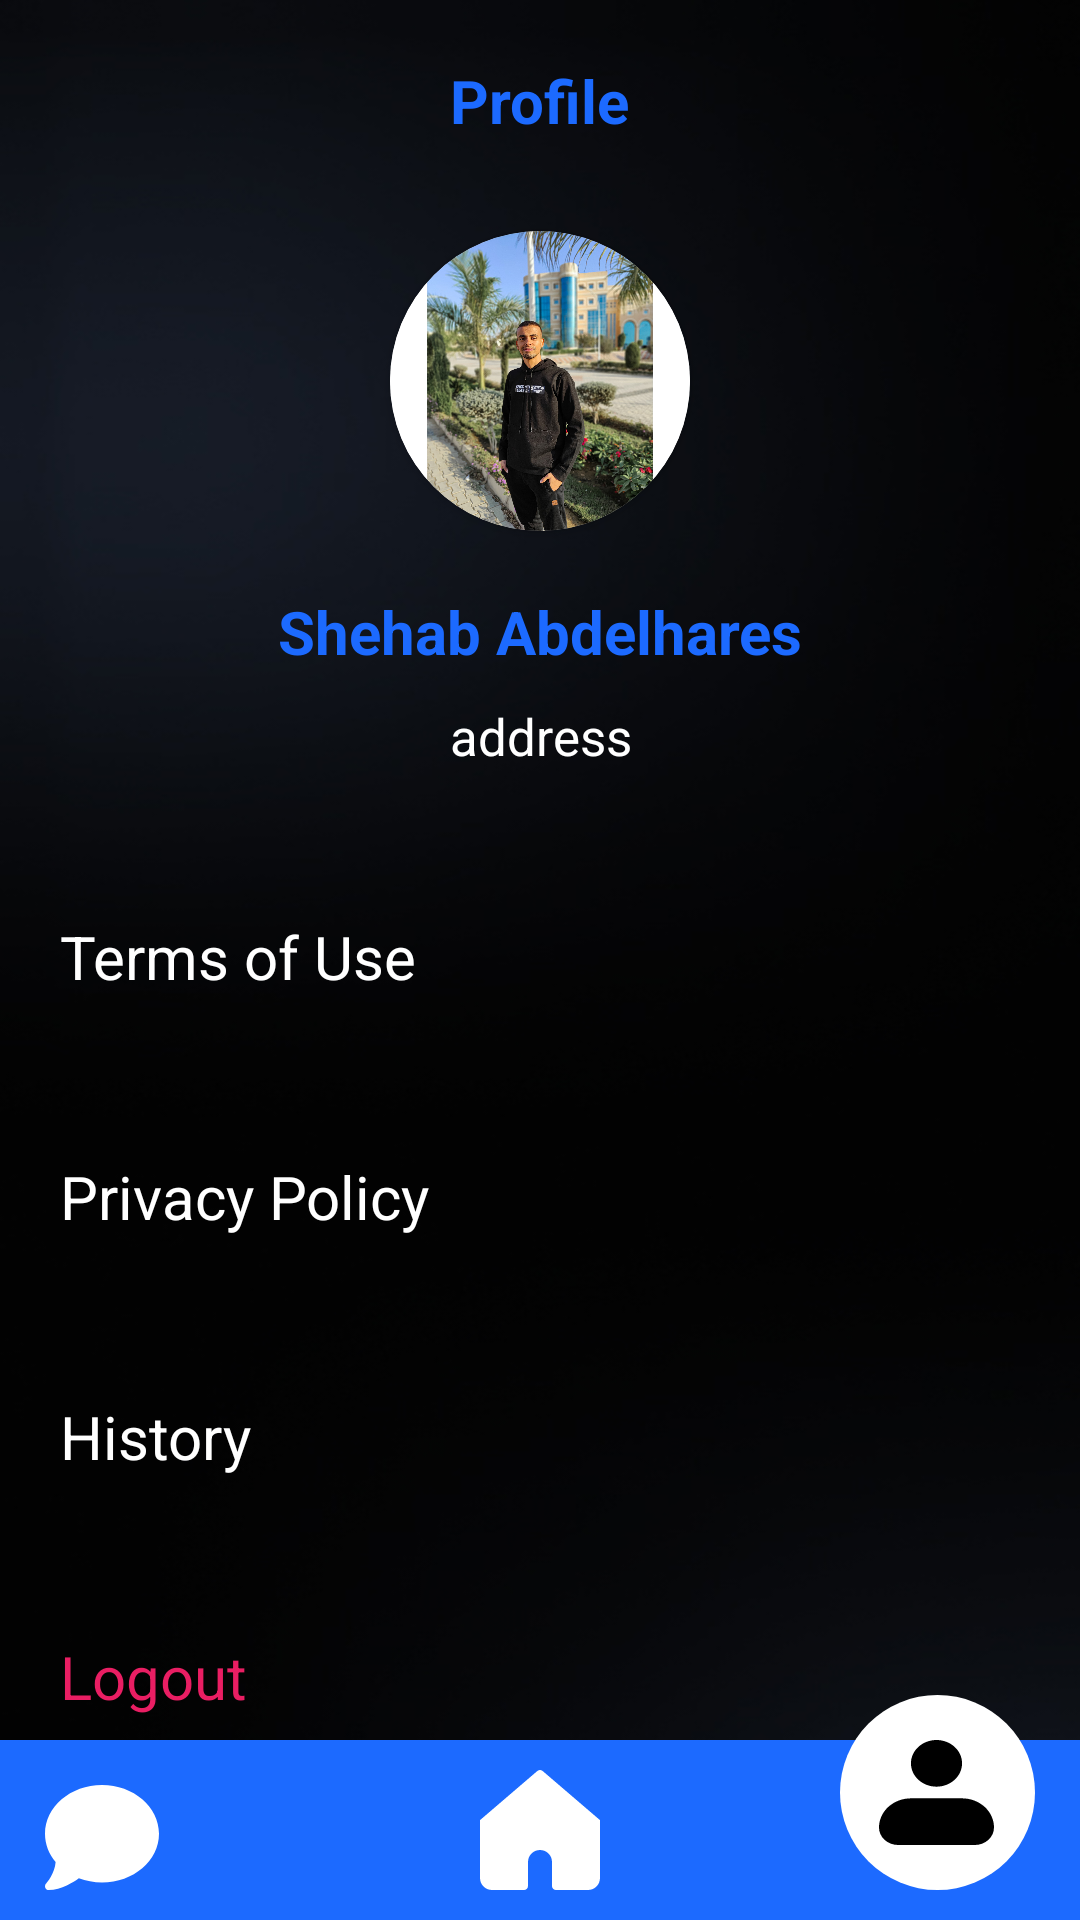

Screen size 1080*1920. Icon name, then its box in pixels as (x1, y1, x2, y2):
home: (480, 1770, 600, 1890)
message: (45, 1785, 159, 1890)
person clicked: (840, 1695, 1035, 1890)
